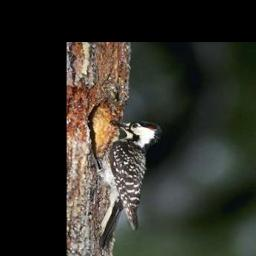Woodpecker: (87, 117, 166, 250)
